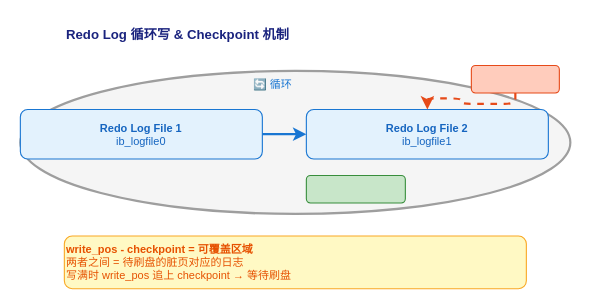
The diagram is 590 pixels wide and 308 high, and some of its shapes have lost their labels. The shapes that lost their labels are listed below. From the top down, each one's centre as x and y in pixels, then its label:
At point 514,78: "write_pos (写)".
At point 355,188: "checkpoint (刷)".
